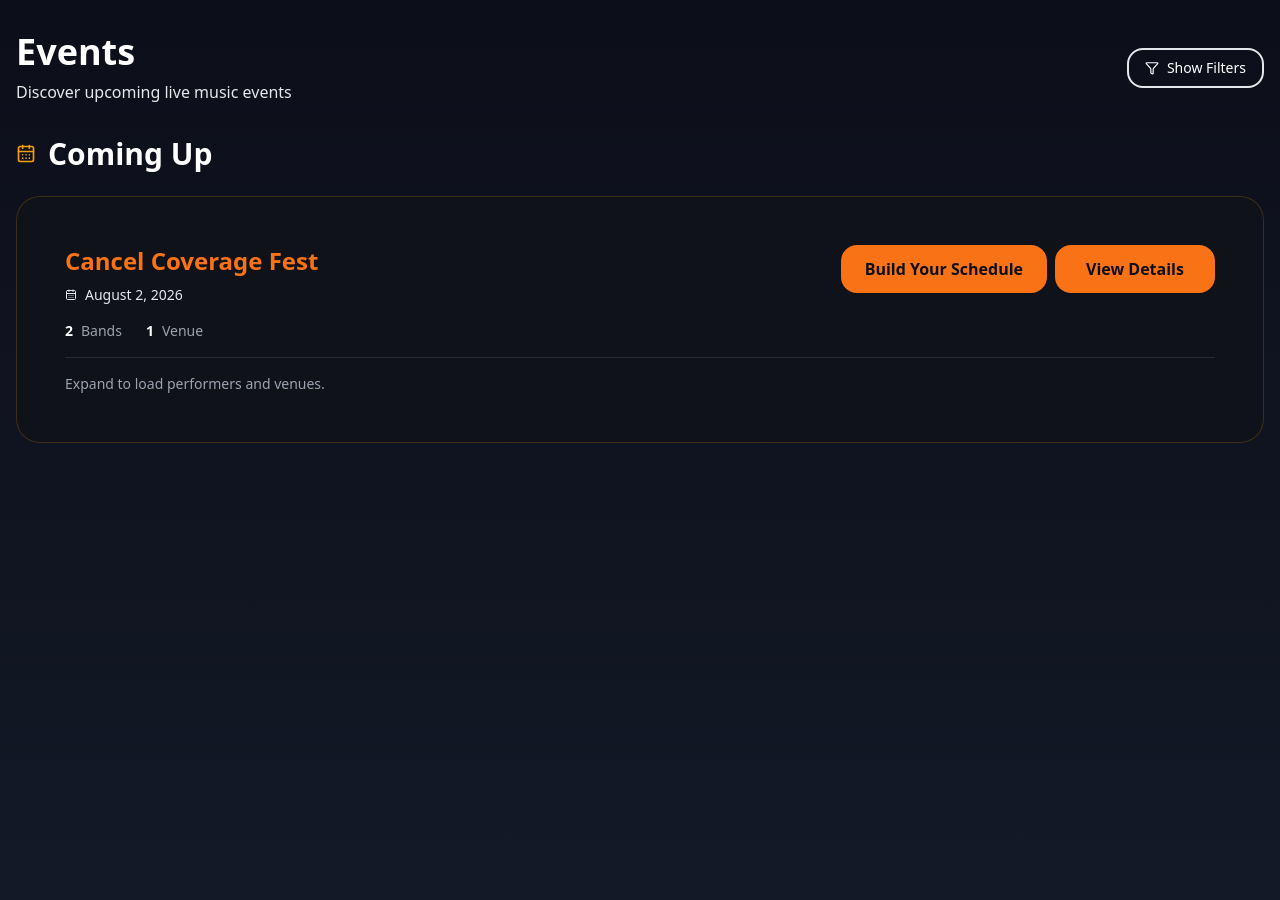
Test: EventTimeline expanded details render cancellation on every band-list consumer (#732) › strikes through a cancelled performer with a Cancelled pill in the "All Performers" grid, leaving a scheduled one untouched
This screenshot has width=1280, height=900.
expect the heading "Cancel Coverage Fest" is shown: met, box x1=65 y1=244 x2=318 y2=277
Click the button "View Details" at (1135, 269), box x1=1055 y1=245 x2=1215 y2=293
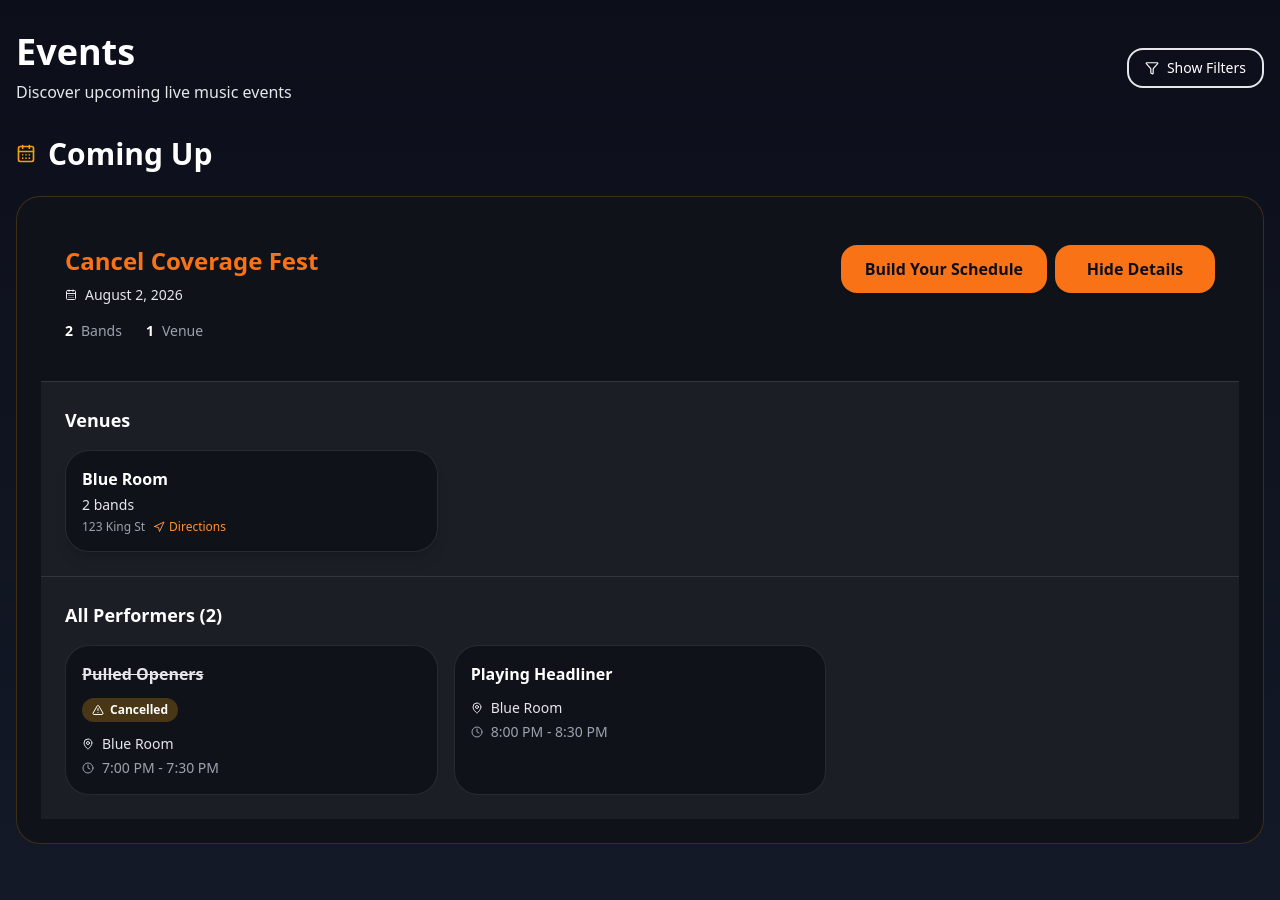
expect the link "Playing Headliner Blue Room 8:00 PM - 8:30 PM" does not show "Cancelled": met, box x1=454 y1=645 x2=826 y2=795
expect the text "Pulled Openers" is shown: met, box x1=82 y1=663 x2=204 y2=685
expect the link "Pulled Openers Cancelled Blue Room 7:00 PM - 7:30 PM" is shown: met, box x1=65 y1=645 x2=438 y2=795
